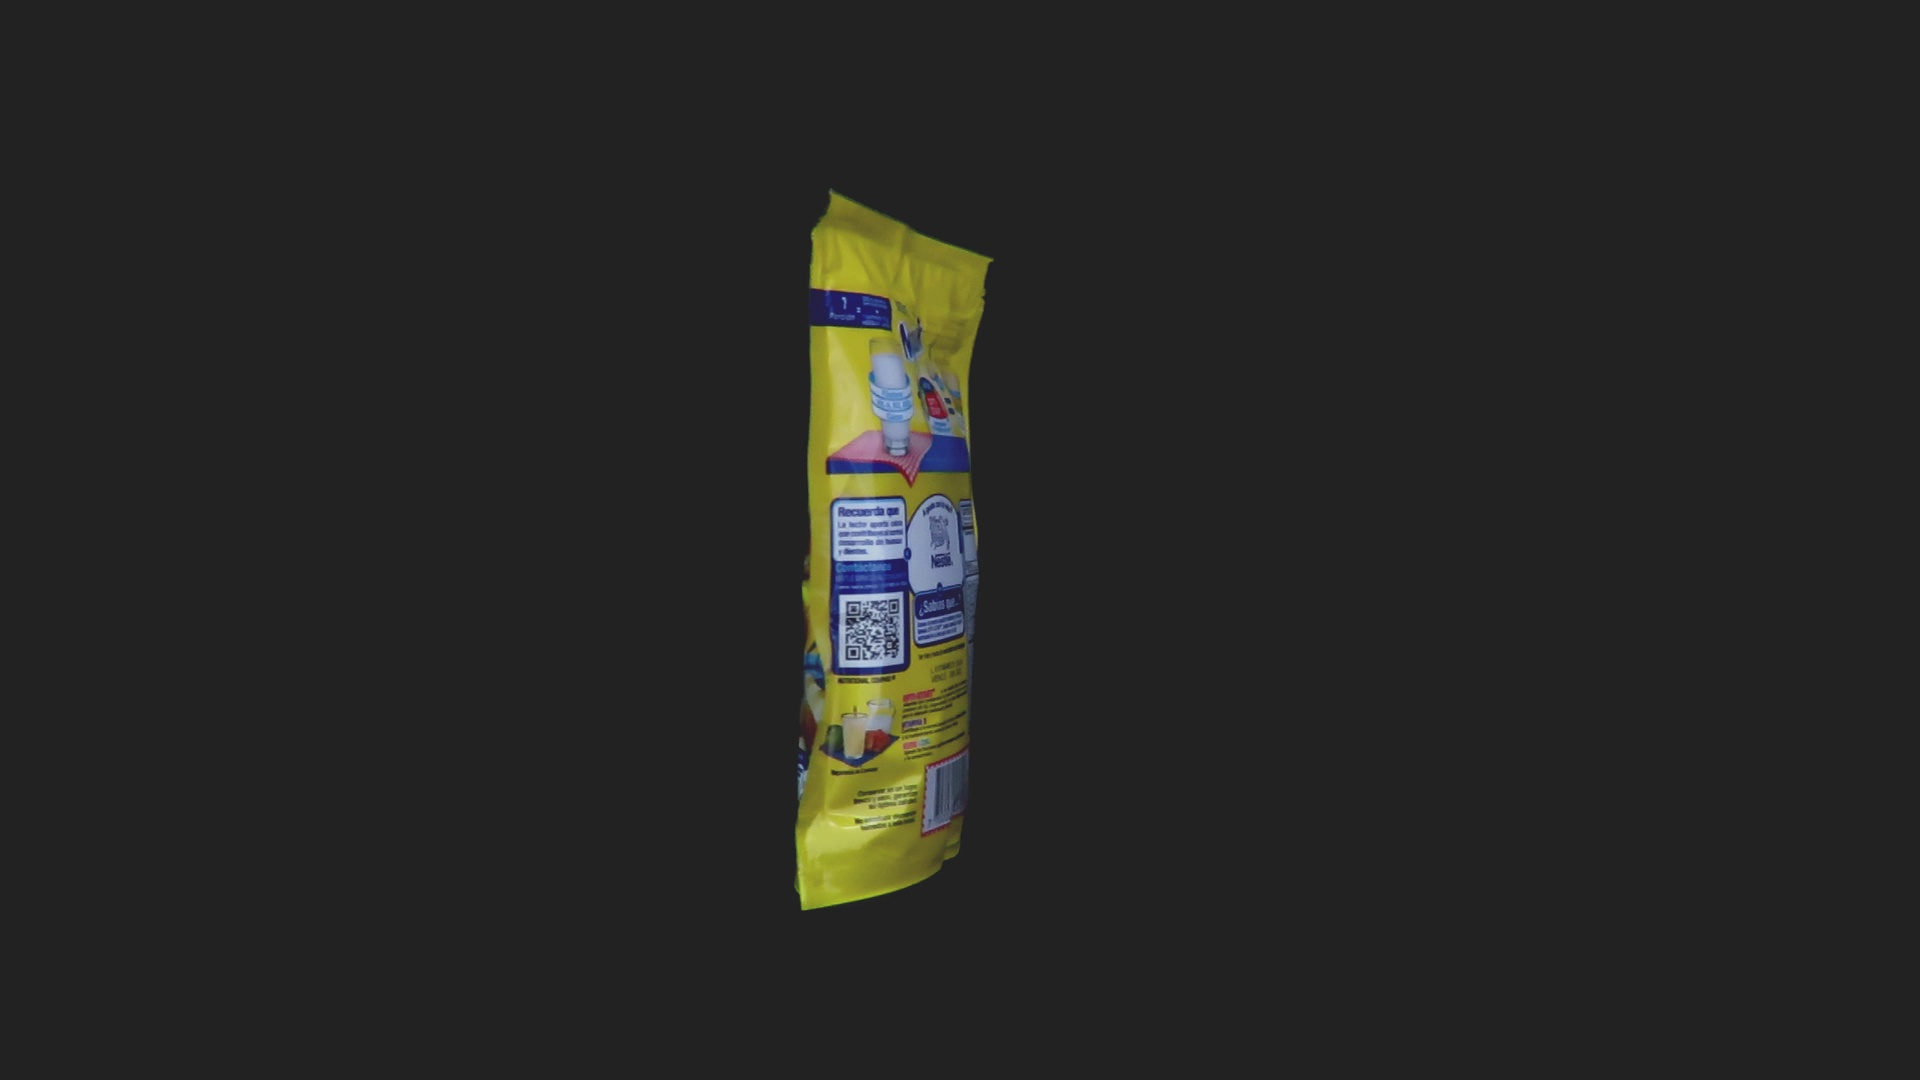COL0170306DYP20000: (789, 183, 1000, 916)
